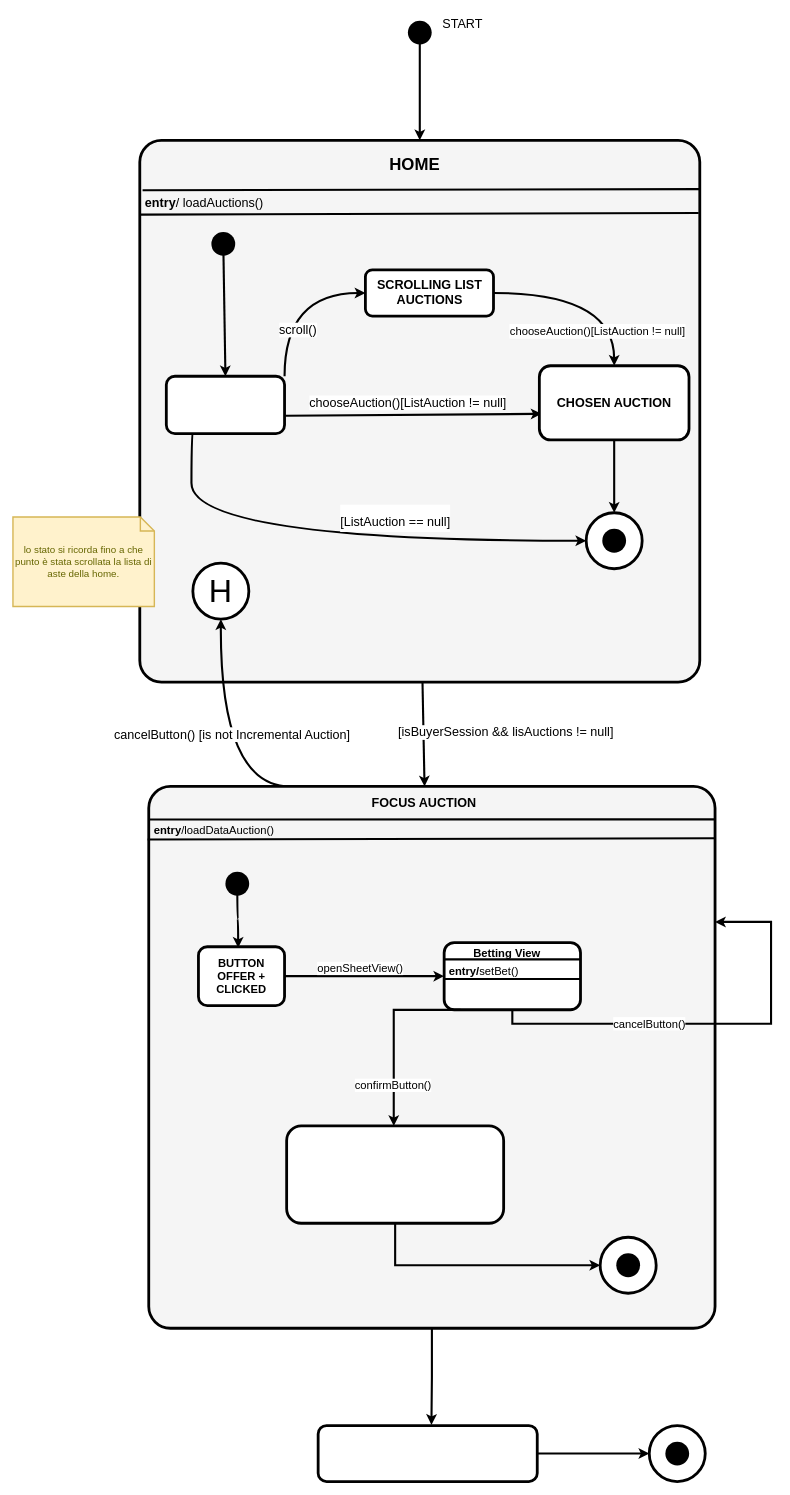
Some shapes in this 790 by 1495 pixel diagram are drawn without their labels. Here are the shapes that lost their labels. From the top down, the box of each, then its label:
(165, 374, 286, 435): LIST AUCTIONS
(285, 1124, 505, 1224): SHOW BANNER SUCCESS BET
(316, 1424, 538, 1483): CURRENT AUCTION VALUE
